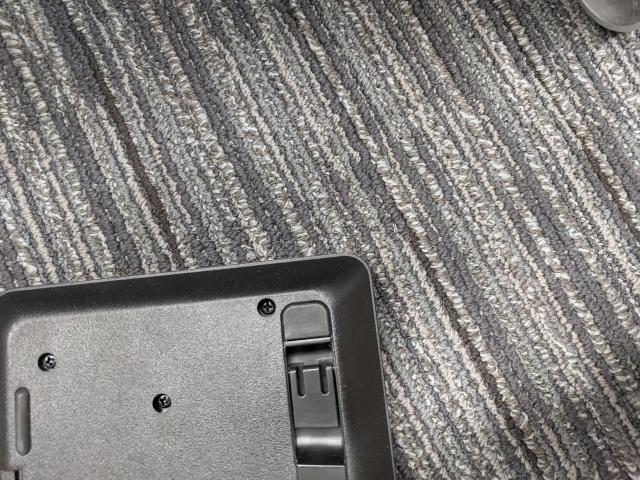CRS: (156, 390, 172, 408), (40, 354, 58, 369), (259, 298, 275, 314)
